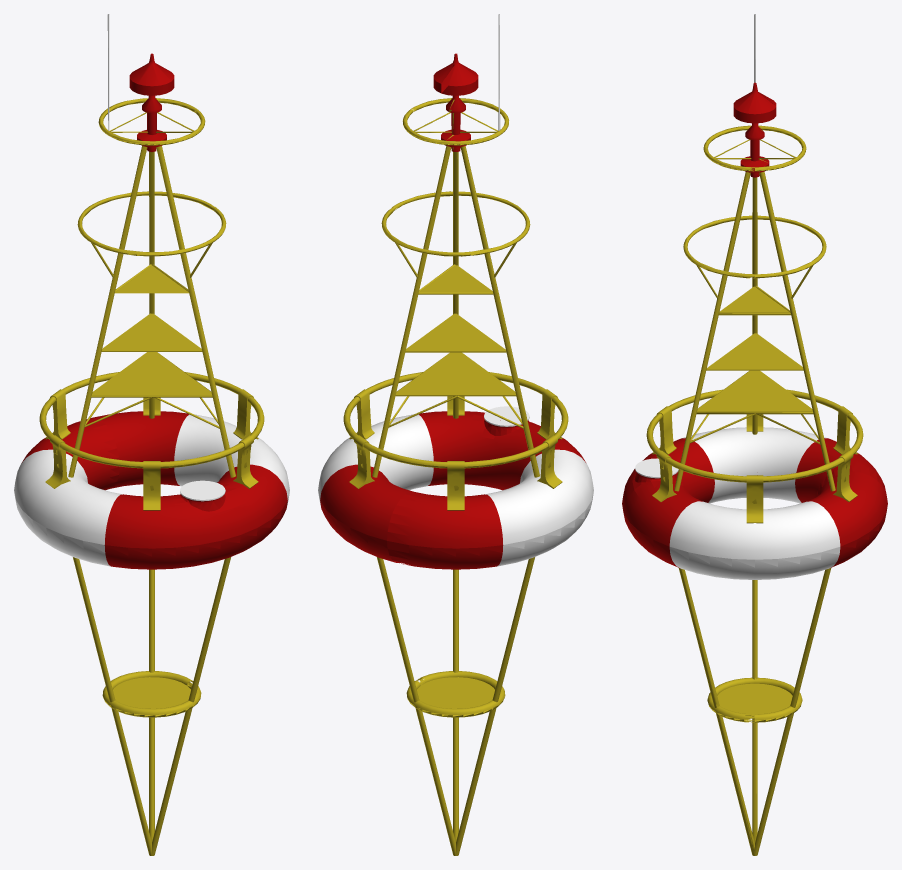
Rendered from Buoy.FBX.
3 views of the same model, side by side, from view 1: azimuth 30°, elevation 25°; view 2: azimuth 150°, elevation 25°; view 3: azimuth 270°, elevation 25° (orthographic). The views are drawn at different scales.
Parts seen in each view (by area): view 1: Object001; view 2: Object001; view 3: Object001.
Boxes of the visible parts, bbox=[...] form: Object001: bbox=[14, 14, 289, 855]; Object001: bbox=[318, 14, 593, 855]; Object001: bbox=[622, 14, 887, 855].
Size of what is drawn, in the model's own units: 189 by 645 by 189.
